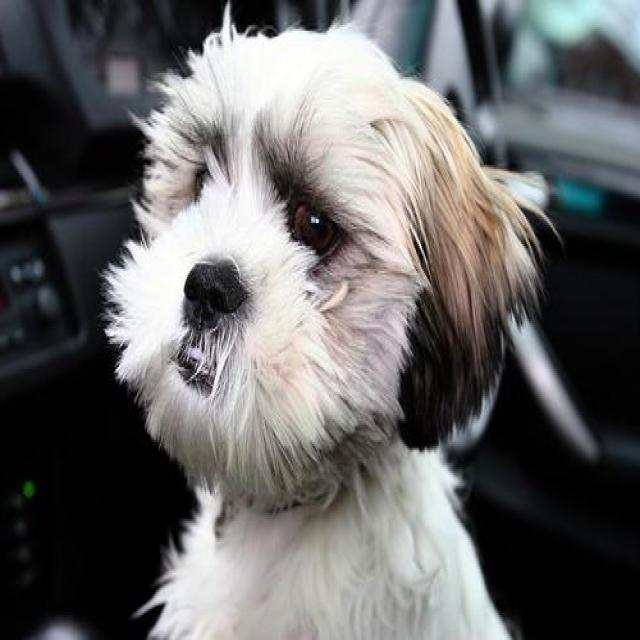shih_tzu: (102, 0, 566, 636)
